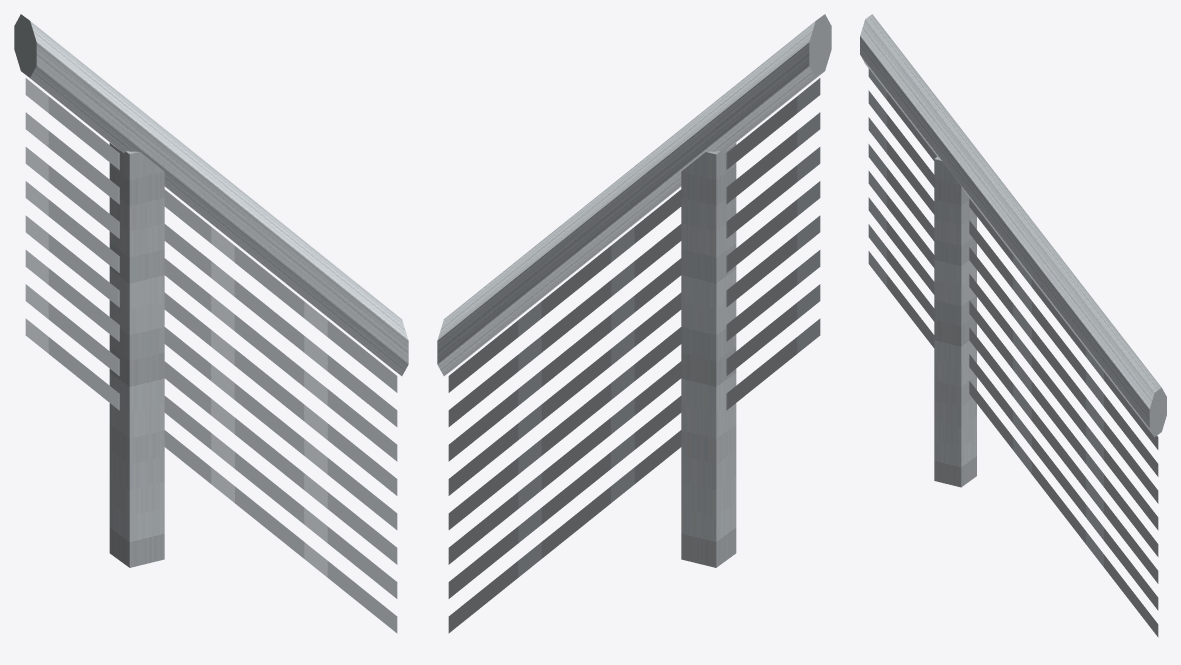
File: mid_neg.obj
3 renders of one model, left to right at view 1: azimuth 30°, elevation 25°; view 2: azimuth 150°, elevation 25°; view 3: azimuth 330°, elevation 25°, orthographic. The views are drawn at different scales.
Parts seen in each view (by area): view 1: railing_cable_stainless_mid_neg; view 2: railing_cable_stainless_mid_neg; view 3: railing_cable_stainless_mid_neg.
Boxes of the visible parts, x1,y1,x2,y2 form: railing_cable_stainless_mid_neg: [14, 14, 408, 633]; railing_cable_stainless_mid_neg: [437, 14, 831, 633]; railing_cable_stainless_mid_neg: [860, 14, 1166, 637].
Bounding box in the file's own units: 1 × 1.86 × 0.1039.
